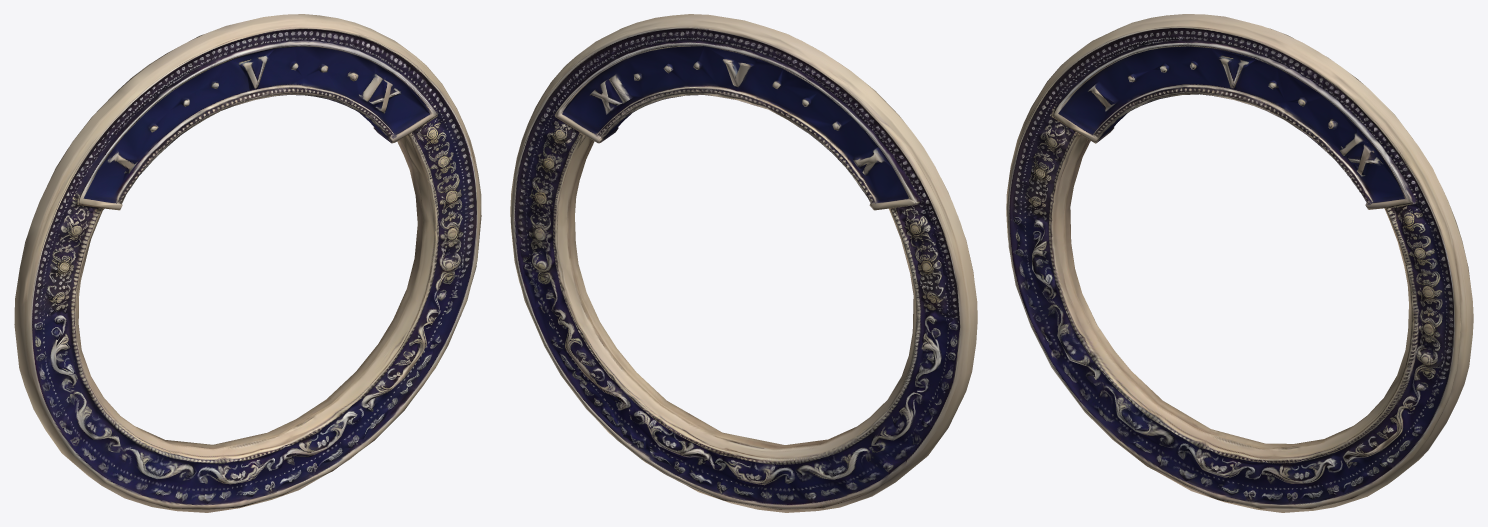
File: EtherVessel_Dial.glb
The picture shows the model from 3 angles, left to right: view 1: azimuth 30°, elevation 25°; view 2: azimuth 150°, elevation 25°; view 3: azimuth 330°, elevation 25°; orthographic projection.
Visible parts, largest first — view 1: tripo_node_2af7b552-afd2-4450-8fd4-4a94ece592dd; view 2: tripo_node_2af7b552-afd2-4450-8fd4-4a94ece592dd; view 3: tripo_node_2af7b552-afd2-4450-8fd4-4a94ece592dd.
Part boxes in pixels (<box>): tripo_node_2af7b552-afd2-4450-8fd4-4a94ece592dd: <box>14,14,481,512</box>; tripo_node_2af7b552-afd2-4450-8fd4-4a94ece592dd: <box>510,14,977,512</box>; tripo_node_2af7b552-afd2-4450-8fd4-4a94ece592dd: <box>1006,14,1473,512</box>.
Size of the model in its own units: 0.9792 by 0.9761 by 0.0705.
Materials: 1 (1 with a texture image).
